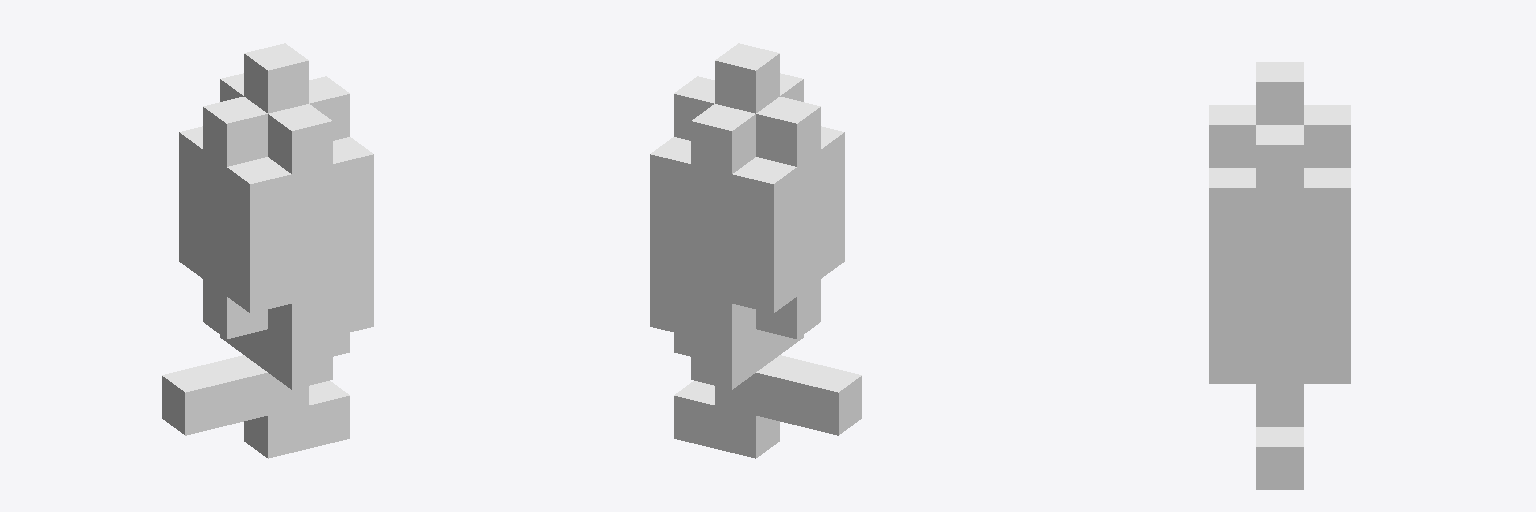
File: Enemy-8.obj
3 renders of one model, left to right at view 1: azimuth 30°, elevation 25°; view 2: azimuth 150°, elevation 25°; view 3: azimuth 270°, elevation 25°, orthographic.
Parts seen in each view (by area): view 1: object 1; view 2: object 1; view 3: object 1.
Boxes of the visible parts, box(x1,y1,x2,y2) form: object 1: box(162, 43, 373, 458); object 1: box(650, 43, 861, 458); object 1: box(1209, 62, 1350, 489).
Size of the model in its own units: 0.4 by 0.9 by 0.3.